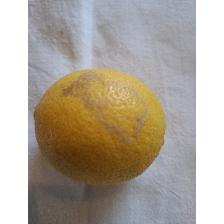Zitrone: (33, 57, 173, 186)
